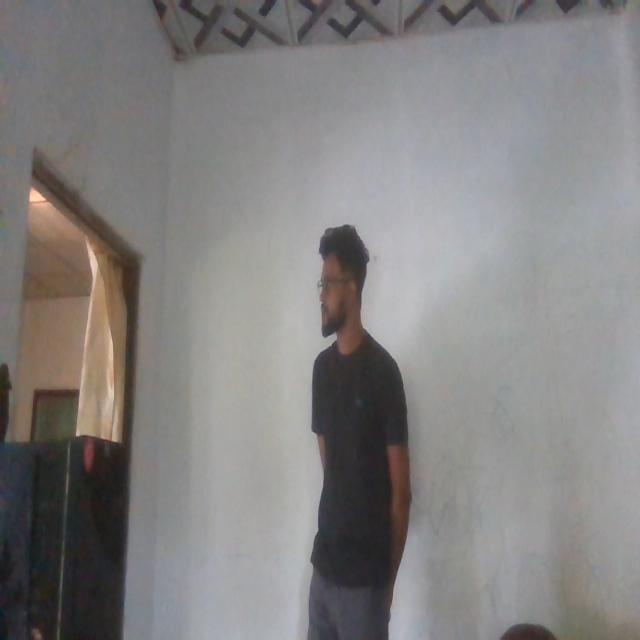Person: (290, 210, 412, 640)
